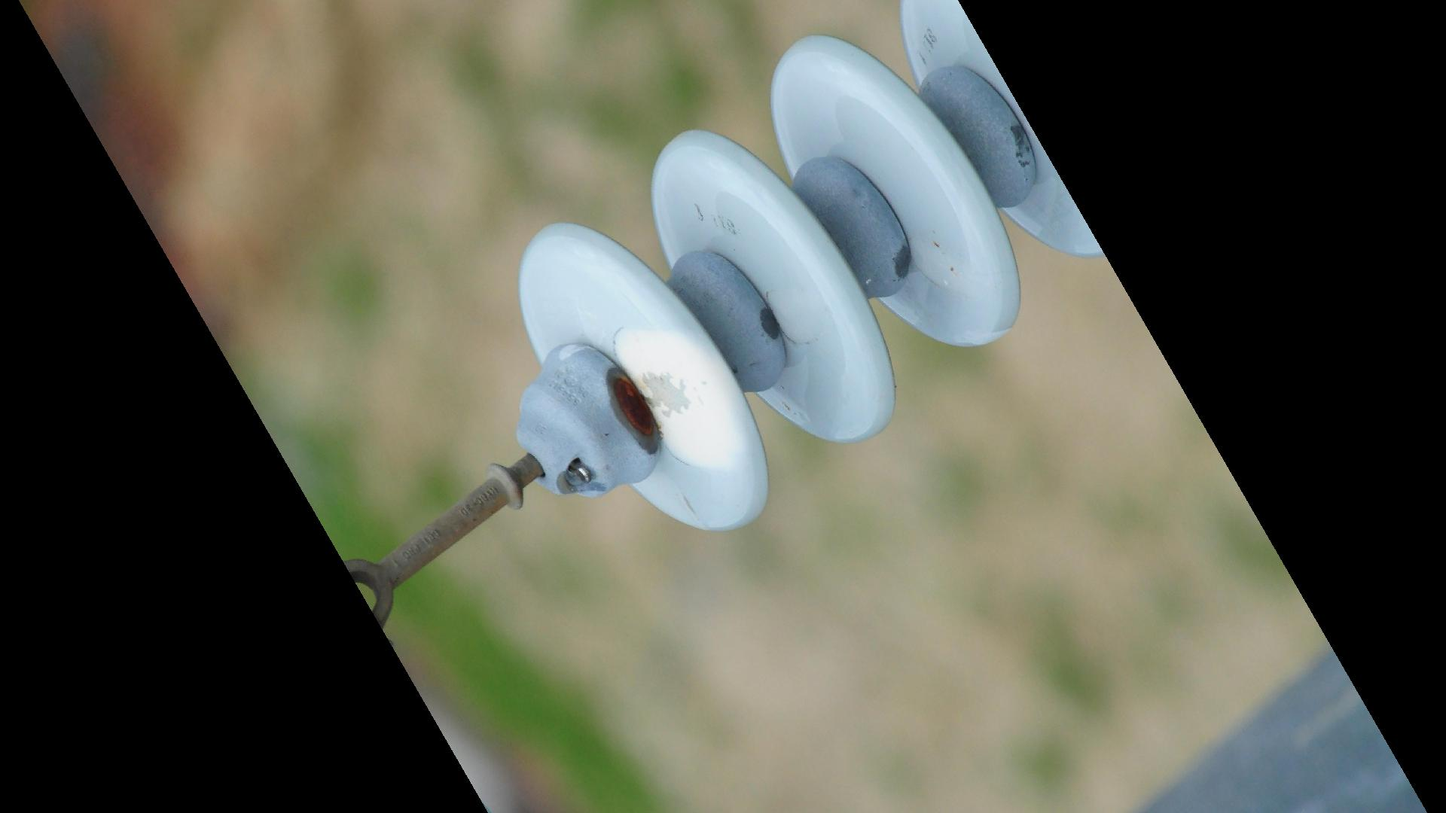insulator: (508, 1, 1109, 542)
insulator_flashover: (607, 320, 752, 470)
